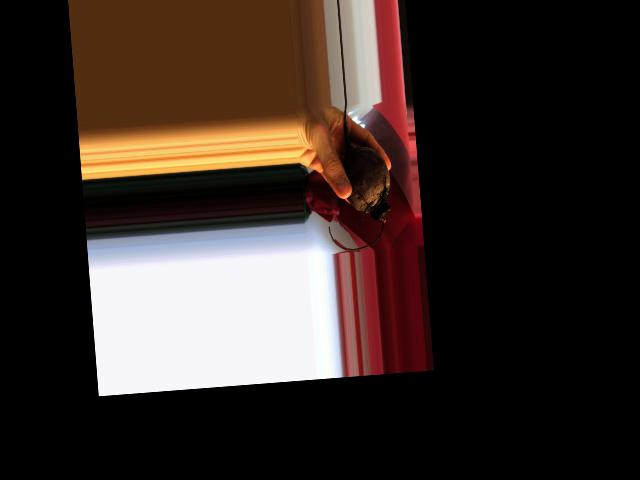beet: (319, 101, 395, 252)
